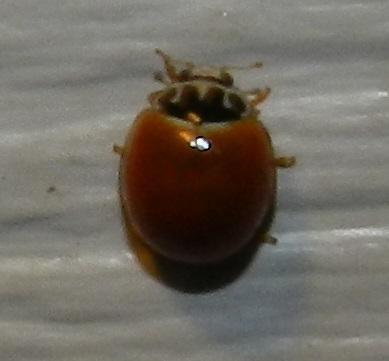ladybug: (113, 48, 300, 268)
